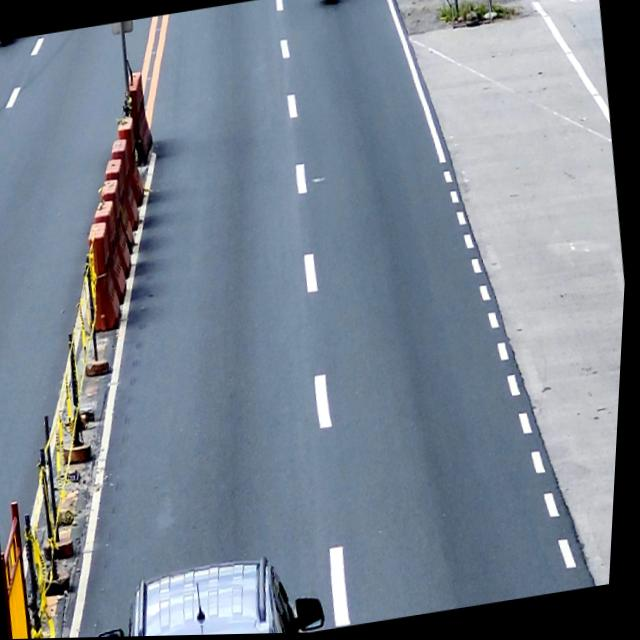Car: (92, 547, 335, 638)
